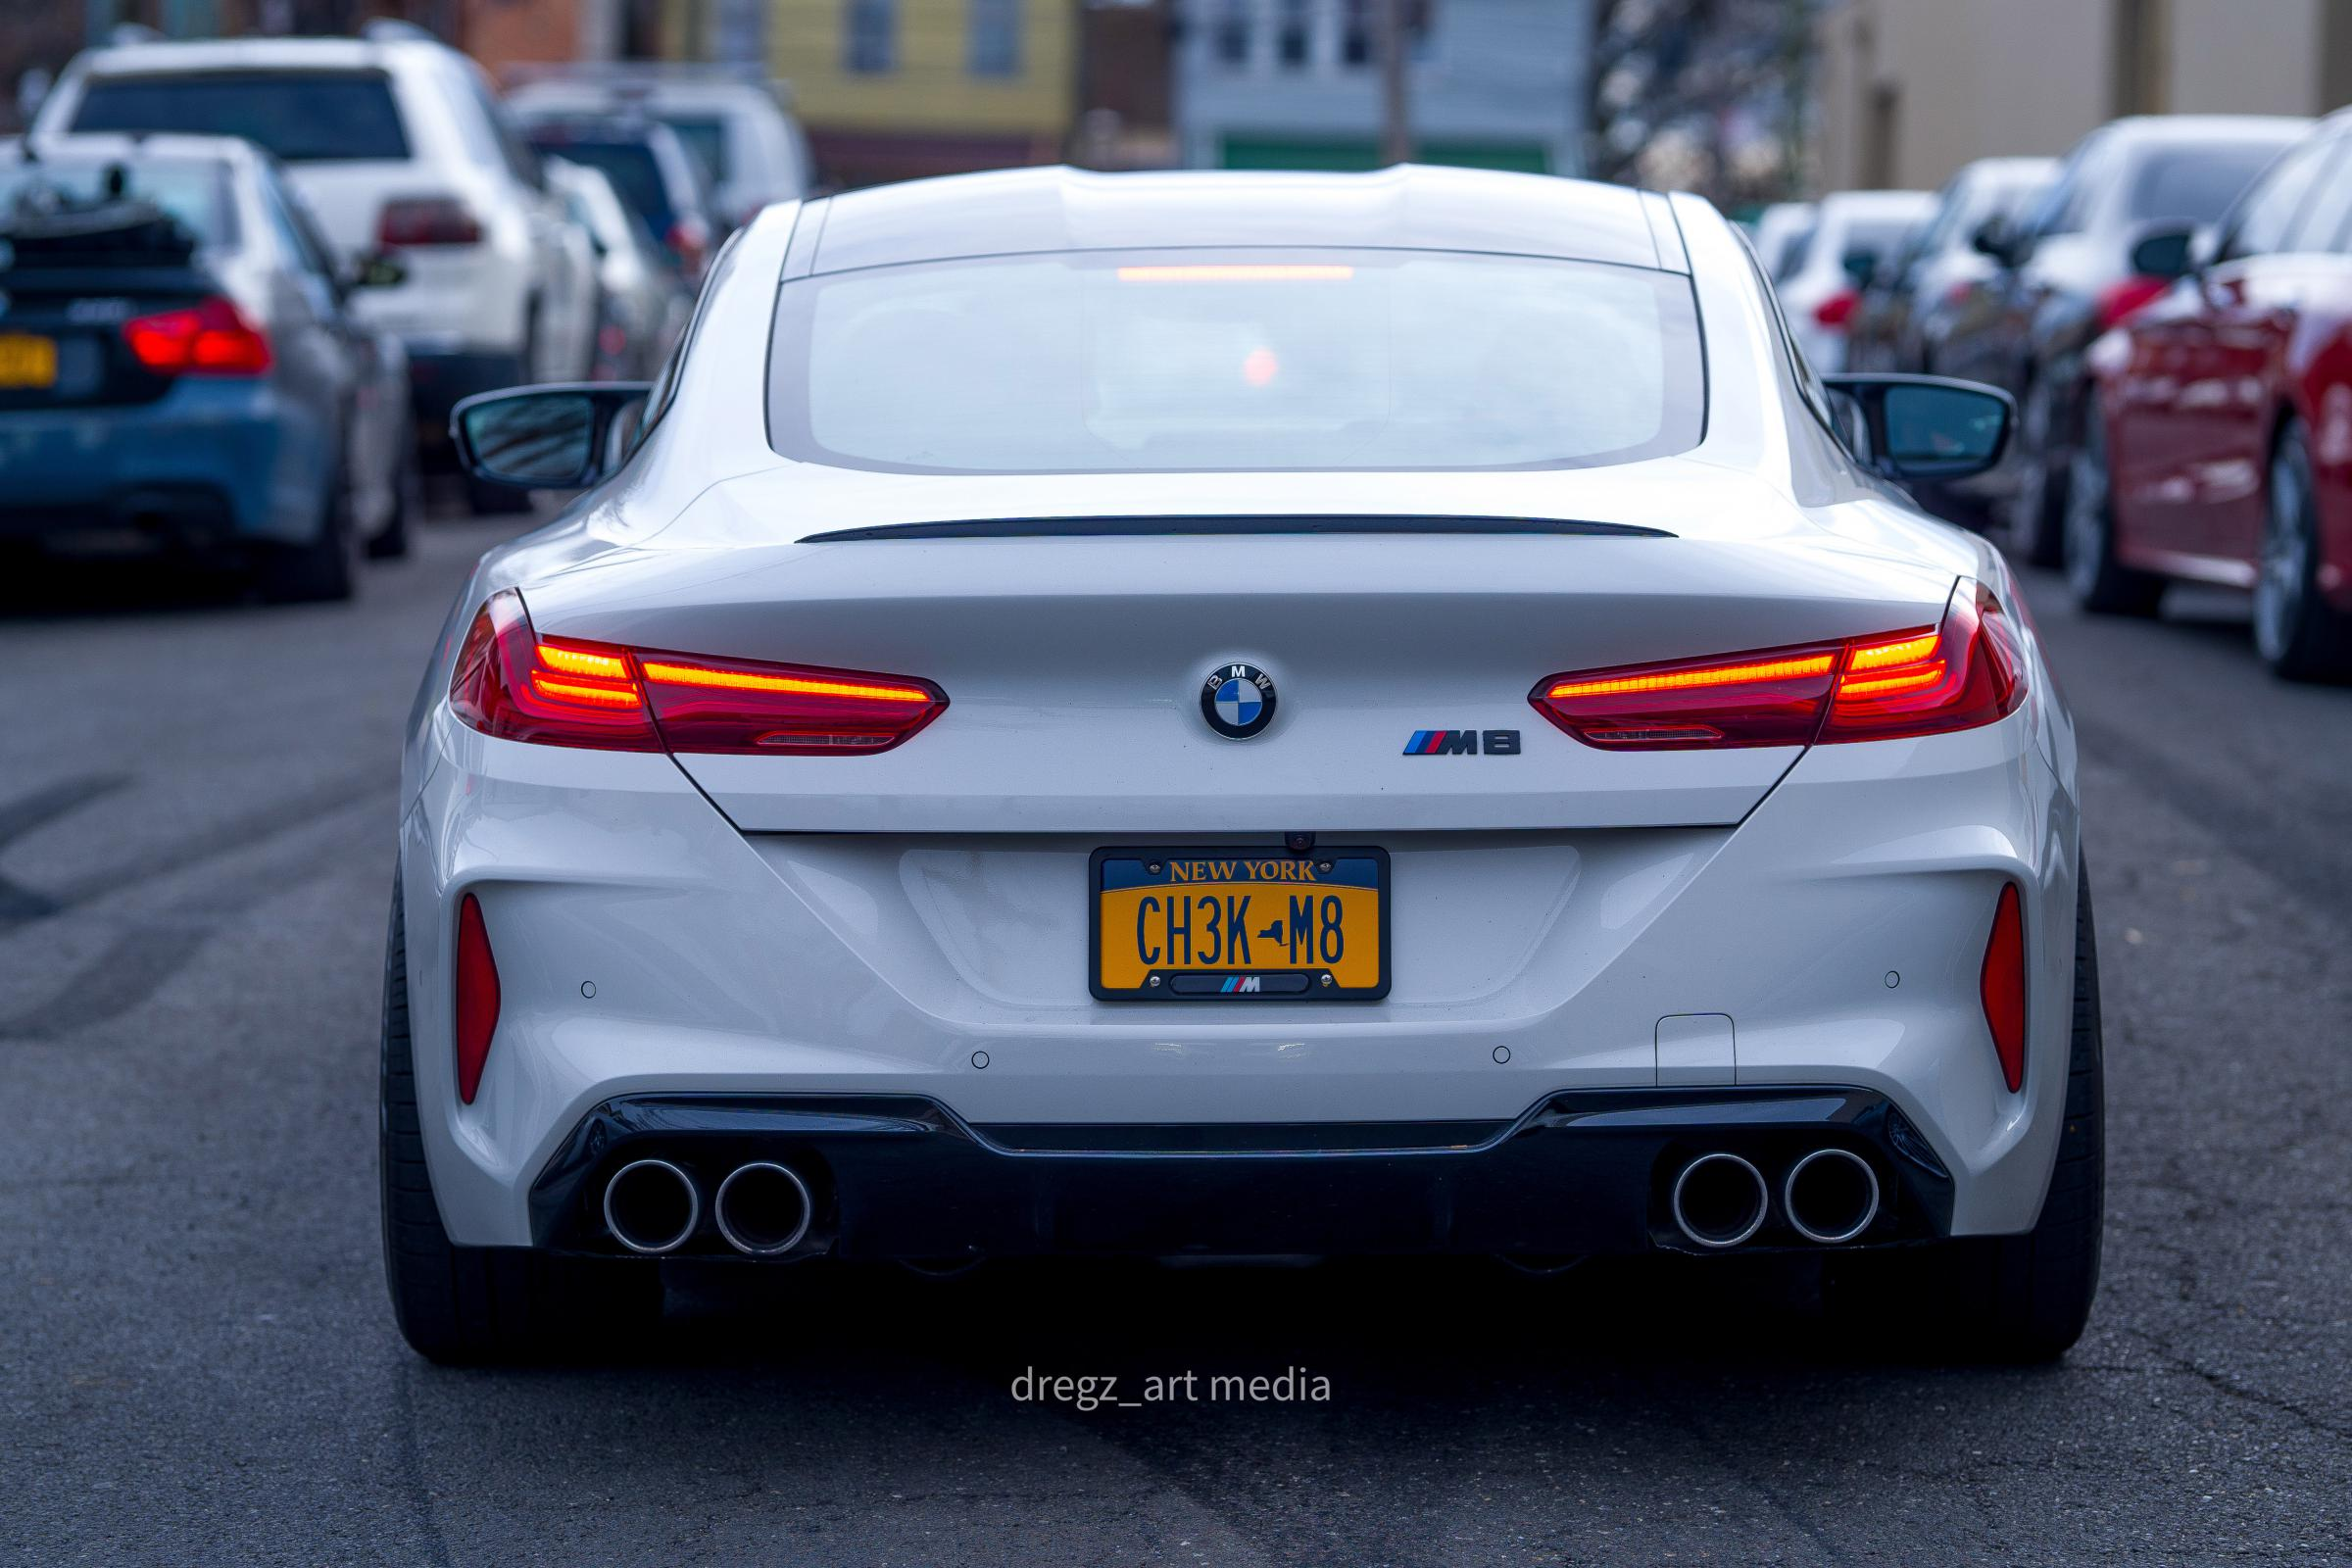number_plates: (1099, 863, 1388, 999)
